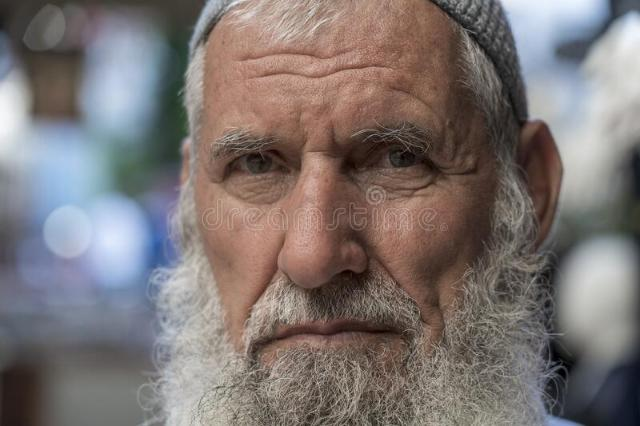crows_feet: (435, 160, 469, 188)
forehead: (387, 80, 435, 112), (243, 46, 324, 62), (335, 59, 397, 79), (256, 65, 320, 83)
frown_line: (323, 120, 343, 151)
gummy_smile: (372, 252, 406, 280), (250, 264, 278, 296)
